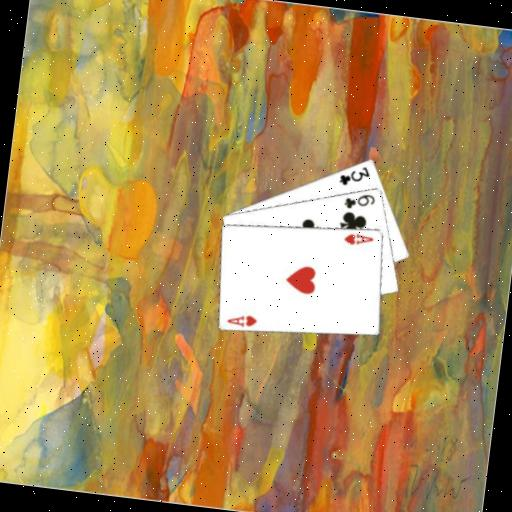3C: (336, 161, 373, 190)
6C: (341, 188, 377, 213)
AH: (341, 229, 376, 249), (224, 310, 259, 330)
